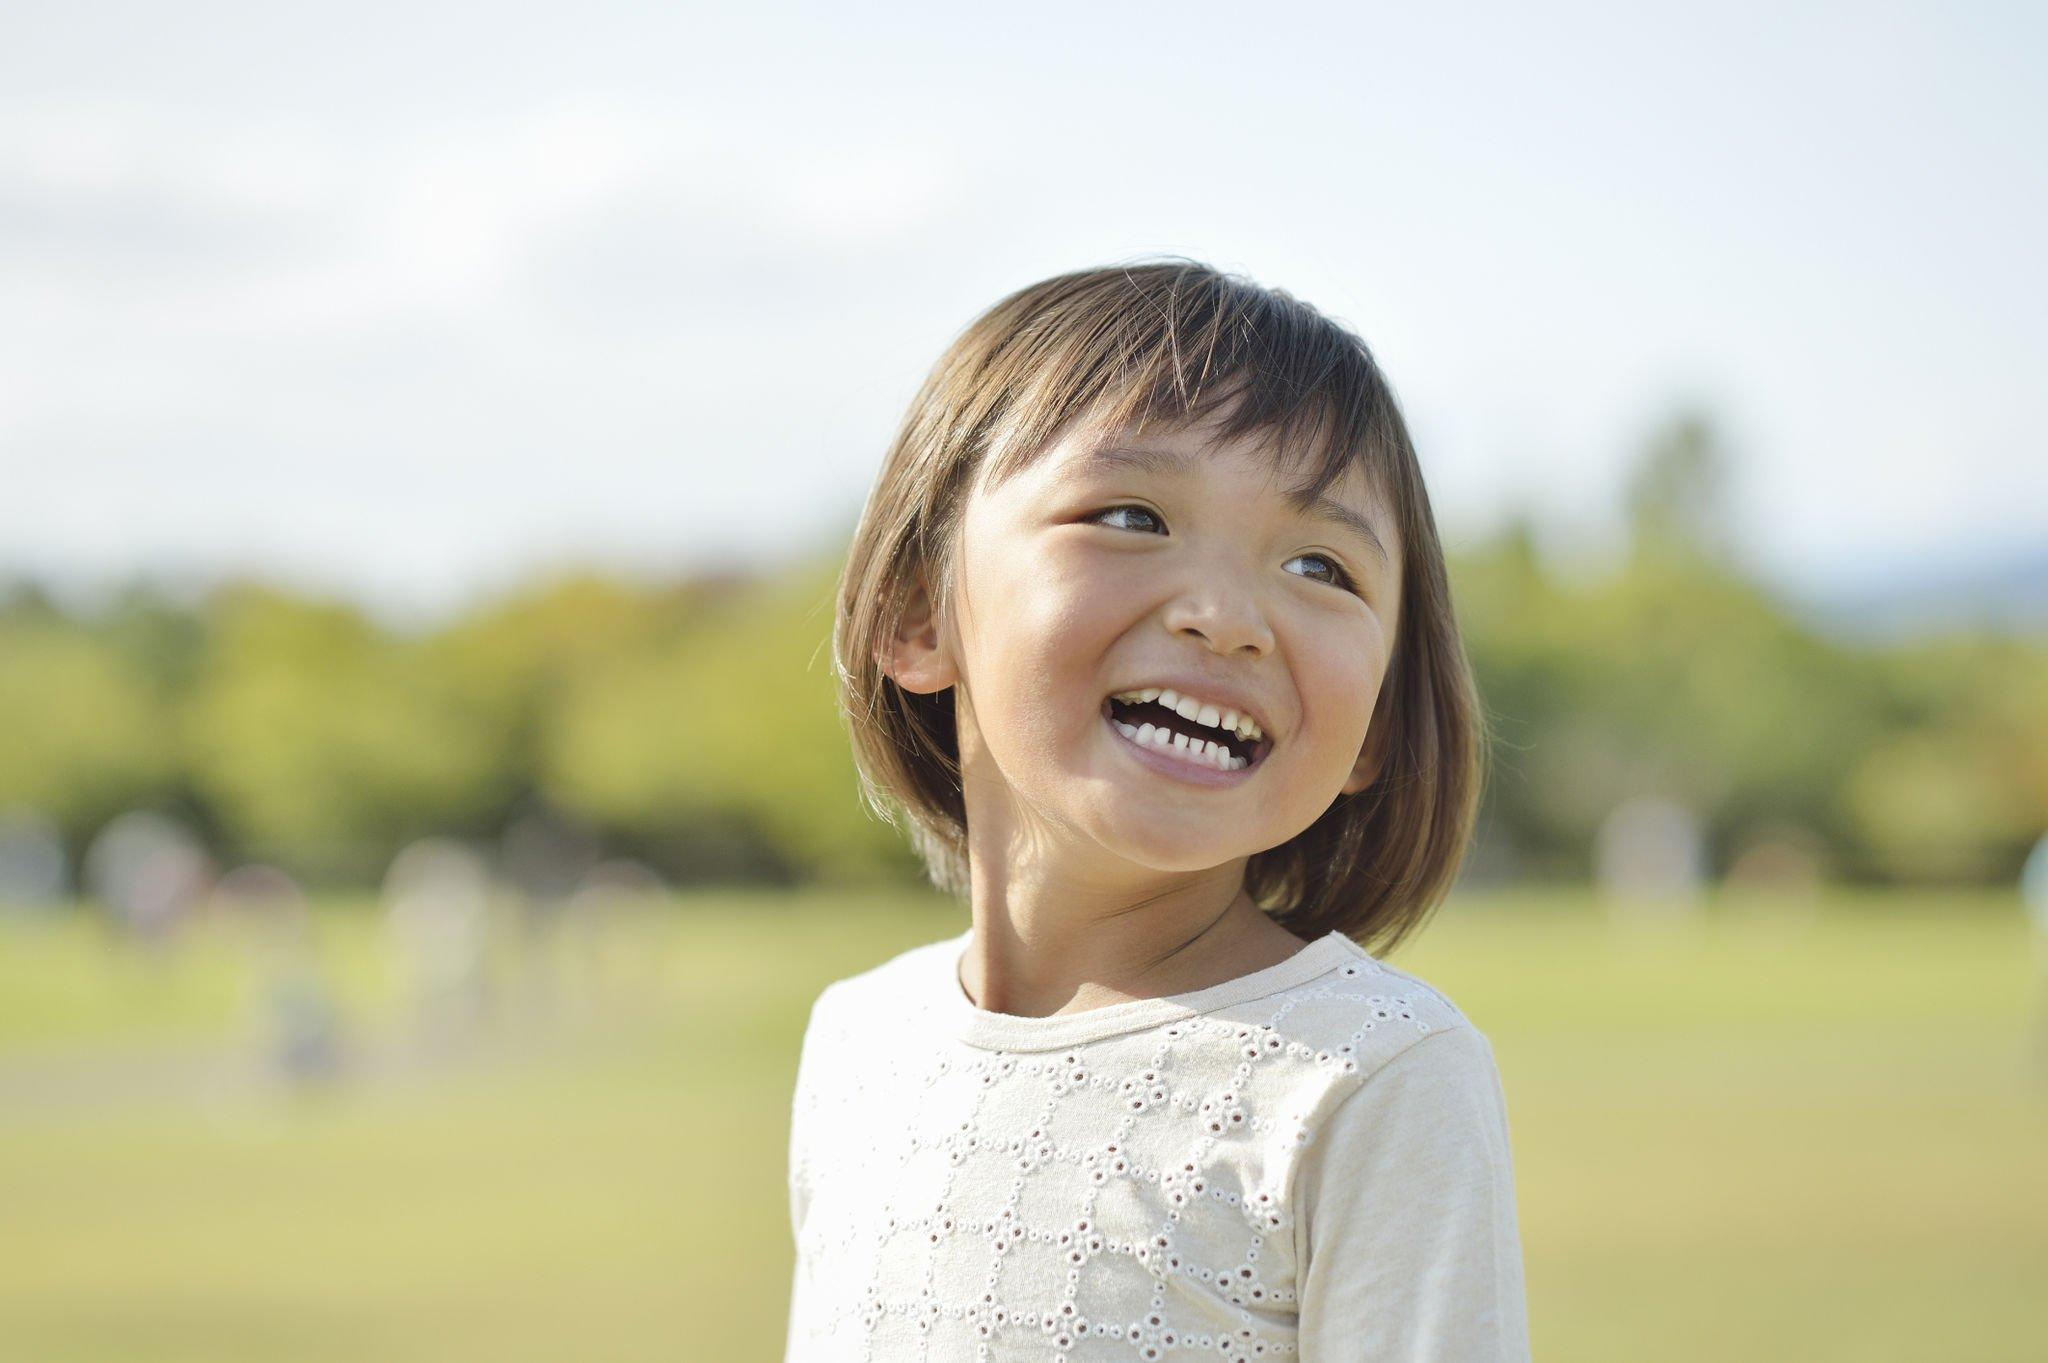Healthy: (947, 312, 1446, 907)
